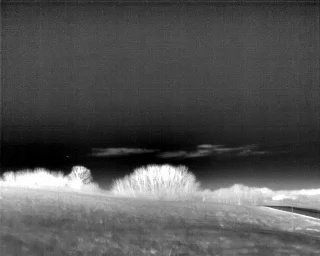AIRPLANE: (66, 154, 69, 158)
